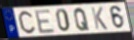0: (55, 8, 71, 34)
6: (109, 5, 126, 30)
C: (18, 10, 37, 35)
E: (34, 8, 56, 35)
K: (90, 6, 109, 31)
Q: (73, 7, 91, 32)
